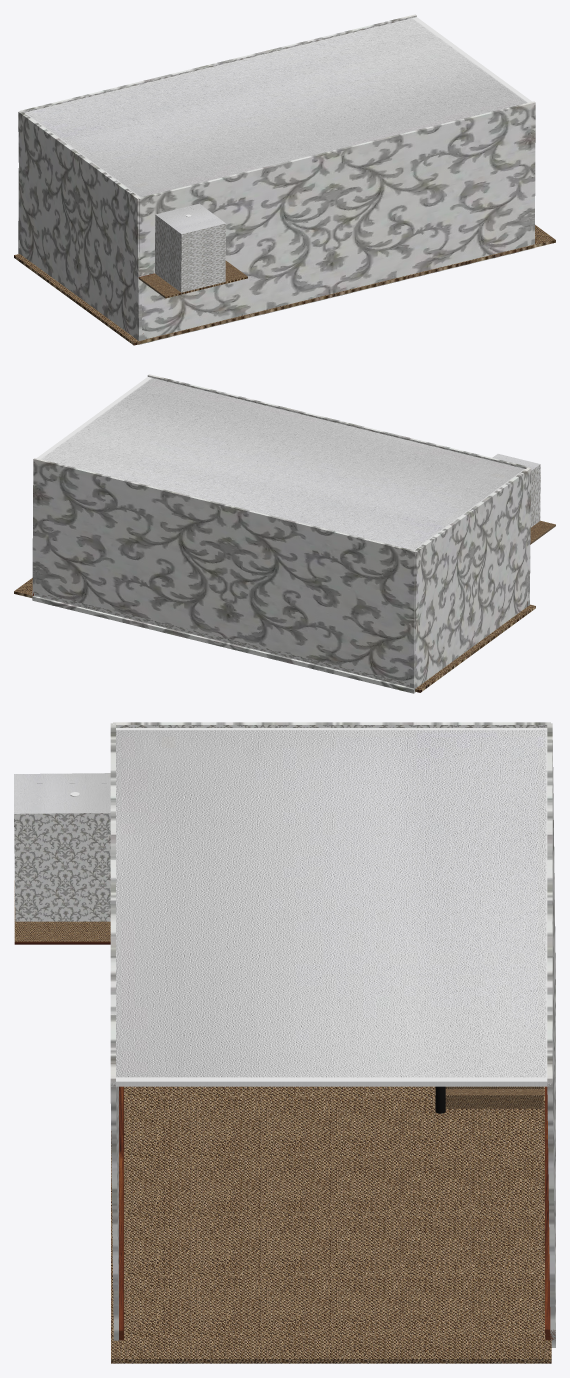
The model's file is liminal_house_space._welcome_home.glb.
3 views of the same model, one above another, from view 1: azimuth 30°, elevation 25°; view 2: azimuth 150°, elevation 25°; view 3: azimuth 270°, elevation 25° (orthographic). The views are drawn at different scales.
Visible parts, largest first — view 1: Plane.003_5, Plane.001_3, Plane.004_6, Plane_2, Plane.002_4; view 2: Plane.002_4, Plane.001_3, Plane.004_6, Plane.003_5, Plane_2; view 3: Plane.001_3, Plane_2, Plane.003_5, Plane.002_4, Plane.004_6, Cube_1.
Boxes of the visible parts, x1,y1,x2,y2 form: Plane.003_5: (136,101,535,344); Plane.001_3: (24,17,532,197); Plane.004_6: (18,111,144,344); Plane_2: (14,225,555,345); Plane.002_4: (18,14,416,254); Plane.002_4: (32,458,416,693); Plane.001_3: (37,377,525,555); Plane.004_6: (409,467,531,692); Plane.003_5: (147,374,540,606); Plane_2: (14,520,555,692); Plane.001_3: (111,728,551,1086); Plane_2: (14,880,551,1363); Plane.003_5: (14,723,123,1340); Plane.002_4: (545,723,555,1347); Plane.004_6: (113,722,550,727); Cube_1: (435,1086,543,1108).
Size of the model in its own units: 25.69 by 8.52 by 15.55.
18 materials, 14 textured.
